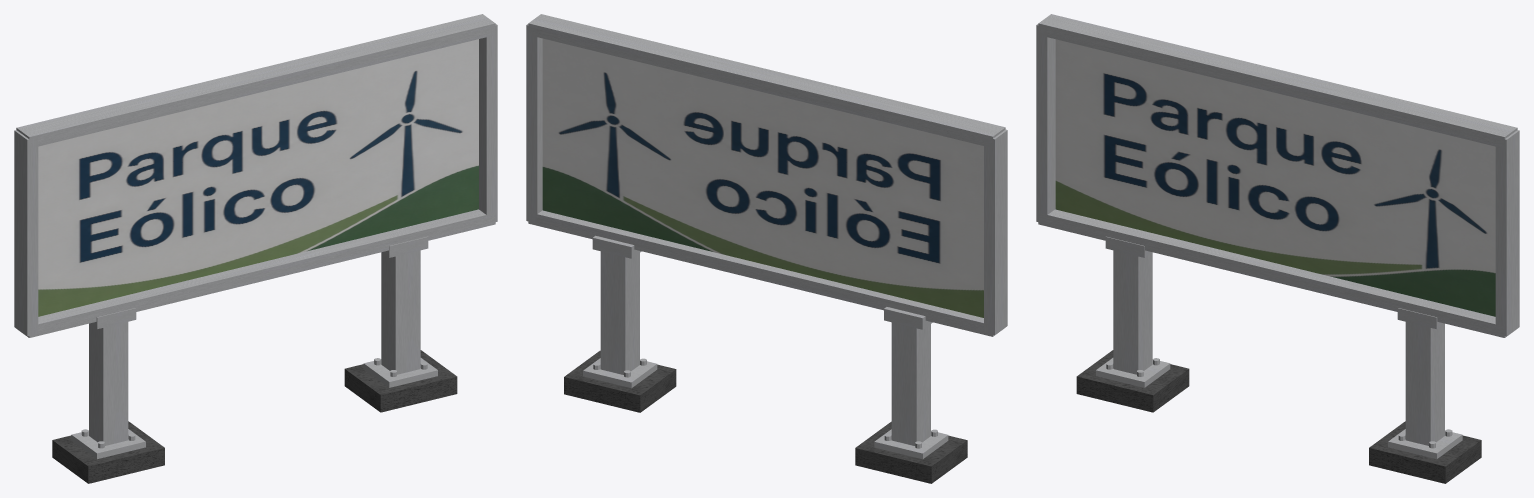
Rendered from Letreroentrada.fbx.
3 renders of one model, left to right at view 1: azimuth 30°, elevation 25°; view 2: azimuth 150°, elevation 25°; view 3: azimuth 330°, elevation 25°, orthographic.
Visible parts, largest first — view 1: Plano, Marco, Base; view 2: Plano, Marco, Base; view 3: Plano, Marco, Base.
Part boxes in pixels (<box>): Plano: <box>38,39,478,316</box>; Marco: <box>14,14,497,459</box>; Base: <box>52,350,457,483</box>; Plano: <box>542,38,983,317</box>; Marco: <box>526,14,1007,459</box>; Base: <box>564,350,967,483</box>; Plano: <box>1055,39,1495,316</box>; Marco: <box>1036,14,1519,459</box>; Base: <box>1076,350,1481,483</box>.
Bounding box in the file's own units: 676 × 482 × 90.
Materials: 3 (3 with a texture image).
